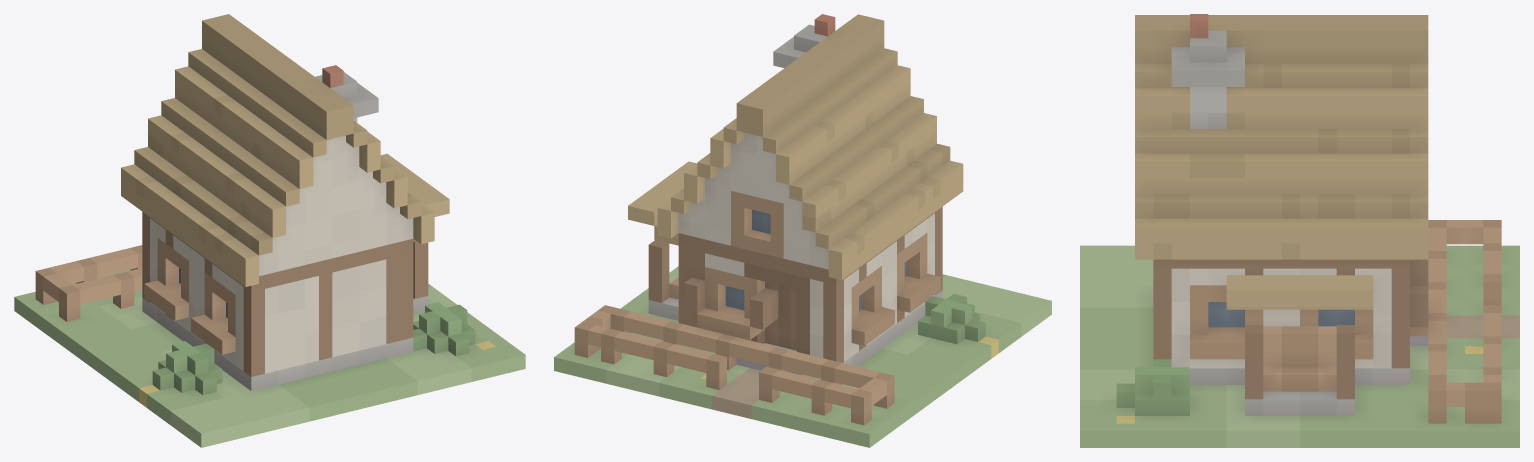
File: house_settlers.v1.glb
3 renders of one model, left to right at view 1: azimuth 30°, elevation 25°; view 2: azimuth 150°, elevation 25°; view 3: azimuth 270°, elevation 25°, orthographic. The views are drawn at different scales.
Visible parts, largest first — view 1: house_settlers; view 2: house_settlers; view 3: house_settlers.
Boxes of the visible parts, x1,y1,x2,y2 form: house_settlers: (14,14,525,447); house_settlers: (554,14,1051,447); house_settlers: (1080,14,1519,447).
Bounding box in the file's own units: 3 × 2.62 × 3.
